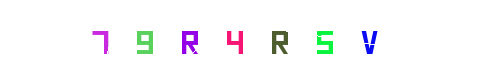4: (207, 0, 287, 80)
7: (108, 0, 188, 80)
9: (127, 0, 207, 80)
R: (196, 0, 276, 80), (239, 0, 319, 80)
S: (284, 0, 364, 80)
V: (329, 0, 409, 80)
